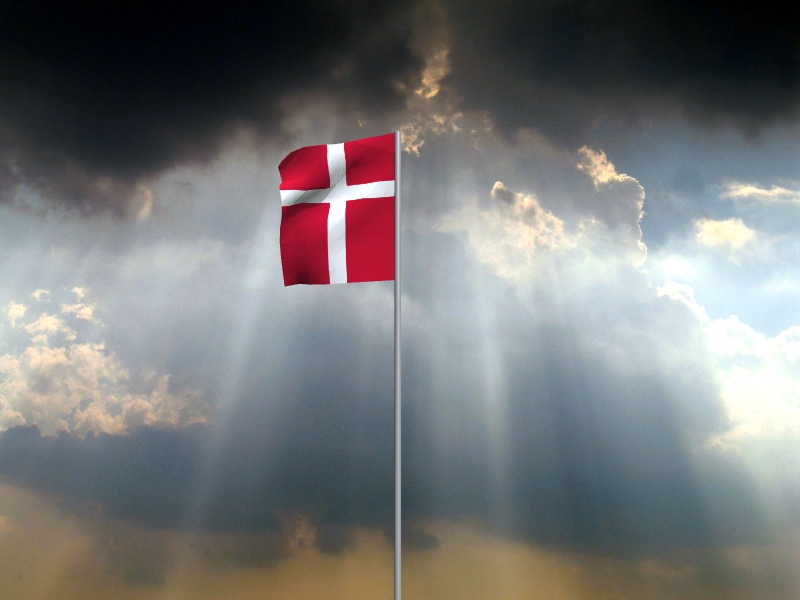dk: (277, 134, 395, 288)
